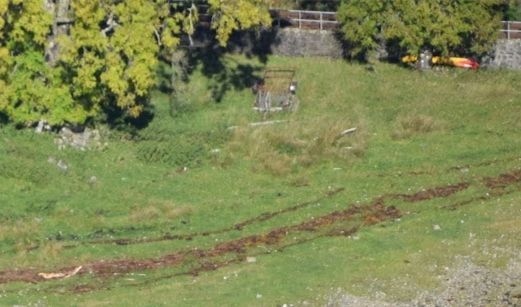cuboid: (251, 64, 301, 117)
